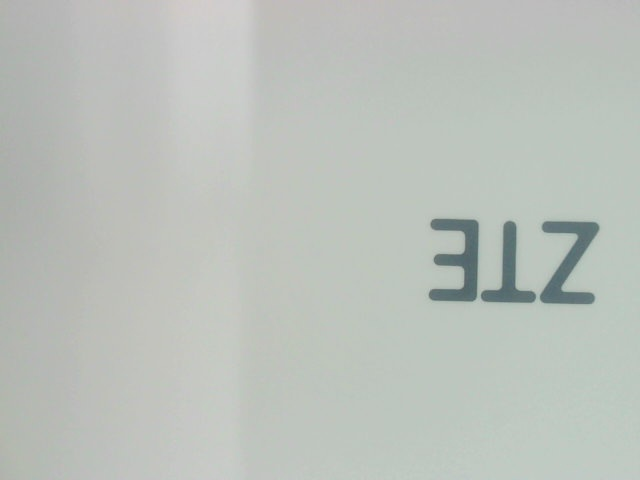AN_ZTE: (417, 207, 610, 305)
